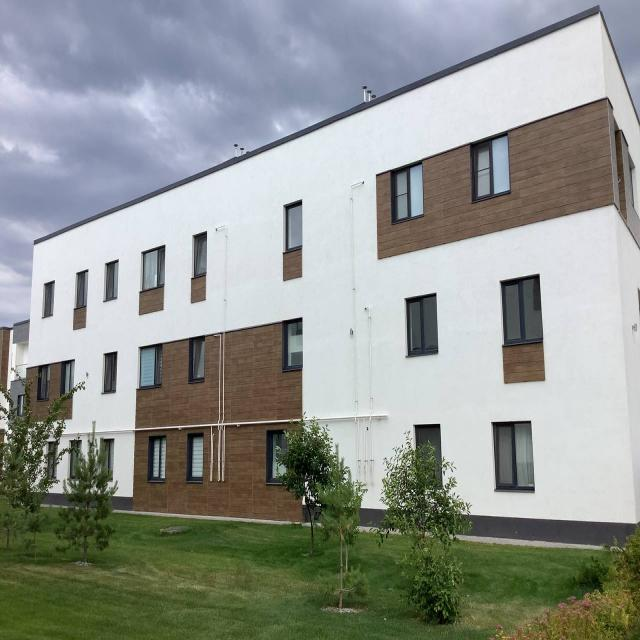Building: (28, 8, 640, 546)
